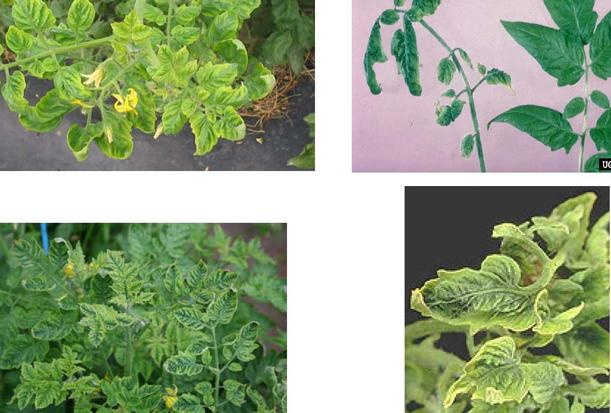Tomato leaf yellow virus: (404, 255, 563, 335), (434, 335, 589, 413), (95, 113, 139, 158), (12, 0, 58, 40), (226, 318, 268, 361), (210, 283, 253, 323), (213, 108, 259, 145), (53, 69, 92, 109), (195, 61, 240, 91), (67, 0, 103, 37), (2, 71, 27, 123), (12, 242, 52, 273), (160, 348, 202, 376), (161, 98, 190, 138), (174, 307, 219, 331), (202, 0, 246, 20), (205, 270, 244, 292), (4, 27, 37, 52), (185, 256, 211, 287), (36, 376, 60, 408), (60, 345, 80, 381), (171, 394, 208, 413), (163, 263, 182, 299), (130, 380, 162, 401), (171, 26, 203, 47), (87, 319, 106, 351), (156, 45, 182, 67), (17, 381, 36, 411), (151, 68, 177, 89), (19, 362, 40, 385), (114, 311, 140, 329), (108, 24, 132, 42), (133, 28, 160, 43), (81, 303, 102, 316), (122, 265, 139, 281)
